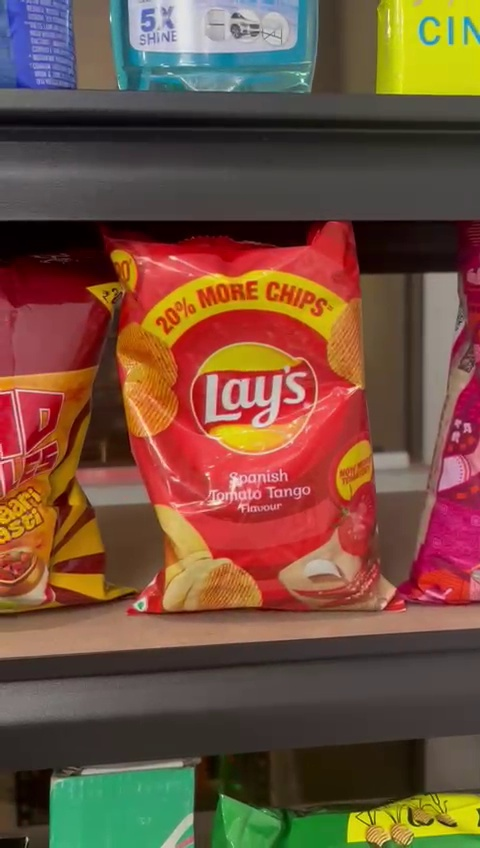Lays: (98, 231, 390, 614)
